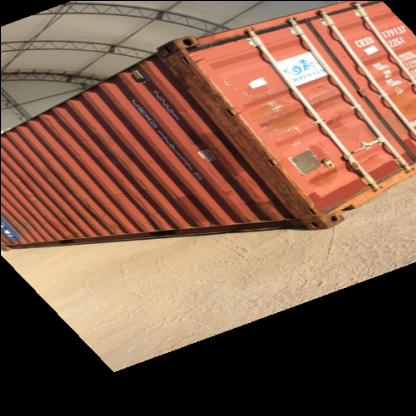Damage: (253, 137, 315, 222), (167, 52, 228, 130), (56, 205, 80, 242), (17, 170, 36, 208), (130, 166, 148, 198), (70, 120, 88, 144), (102, 214, 124, 231)
